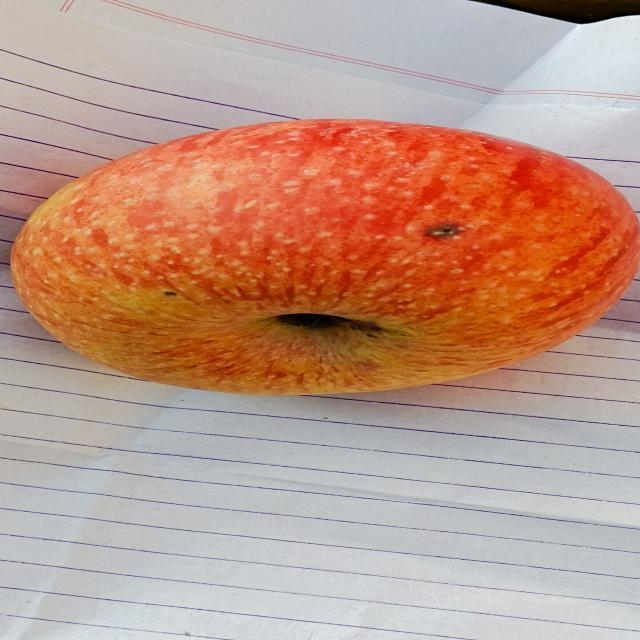Fresh Apple: (0, 119, 638, 398)
